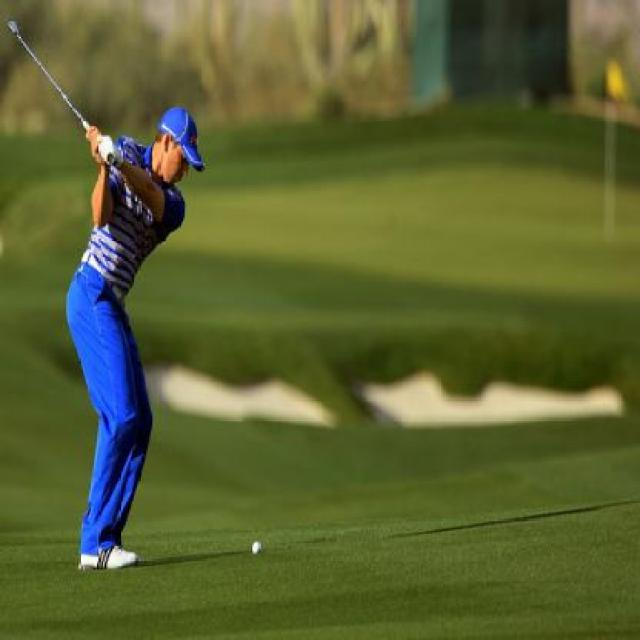club head: (7, 18, 24, 42)
